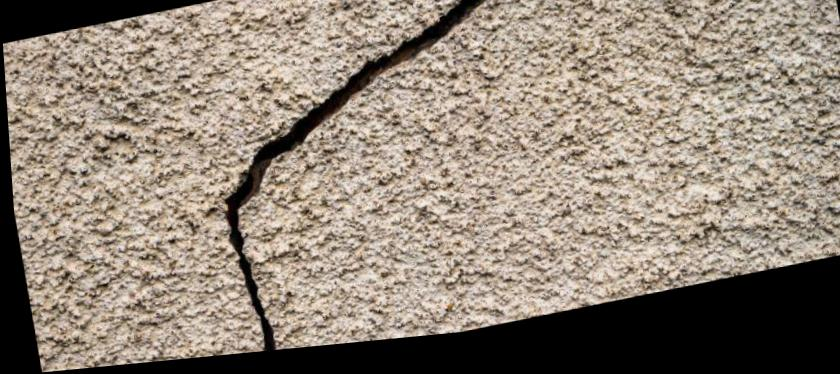crack: (221, 0, 506, 356)
